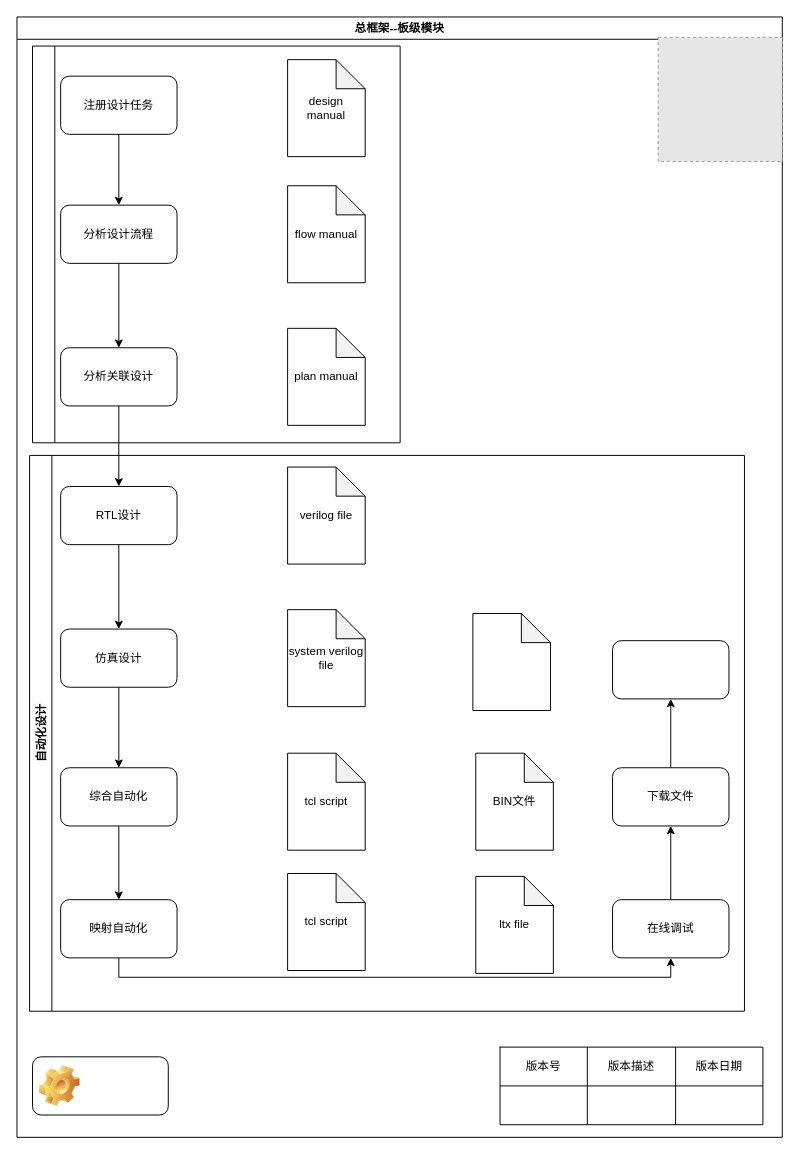
This 799x1154 diagram has some shape labels left out. Grey dashed boxes stand in for pictures. The centre of each missing label's shape, as x and y in pixels:
FpgaPublish: pixel 100 1085
xml文件: pixel 511 662
封装IP: pixel 670 669
手动化设计: pixel 216 244
